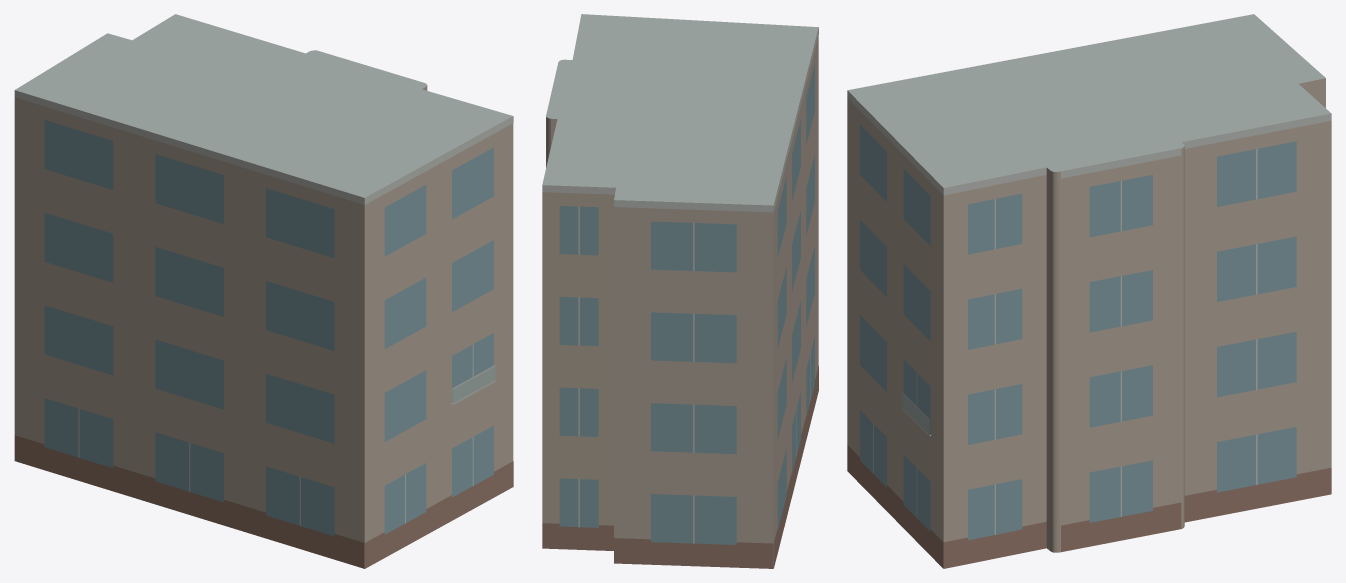
File: survey-upis-32731781.glb
3 renders of one model, left to right at view 1: azimuth 30°, elevation 25°; view 2: azimuth 150°, elevation 25°; view 3: azimuth 270°, elevation 25°, orthographic. The views are drawn at different scales.
Parts seen in each view (by area): view 1: survey-upis-32731781.tmp; view 2: survey-upis-32731781.tmp; view 3: survey-upis-32731781.tmp.
Boxes of the visible parts, left/top/right/bottom form: survey-upis-32731781.tmp: left=14, top=14, right=513, bottom=568; survey-upis-32731781.tmp: left=542, top=14, right=818, bottom=568; survey-upis-32731781.tmp: left=847, top=14, right=1331, bottom=568.
Bounding box in the file's own units: 12.51 × 12.75 × 14.71.
